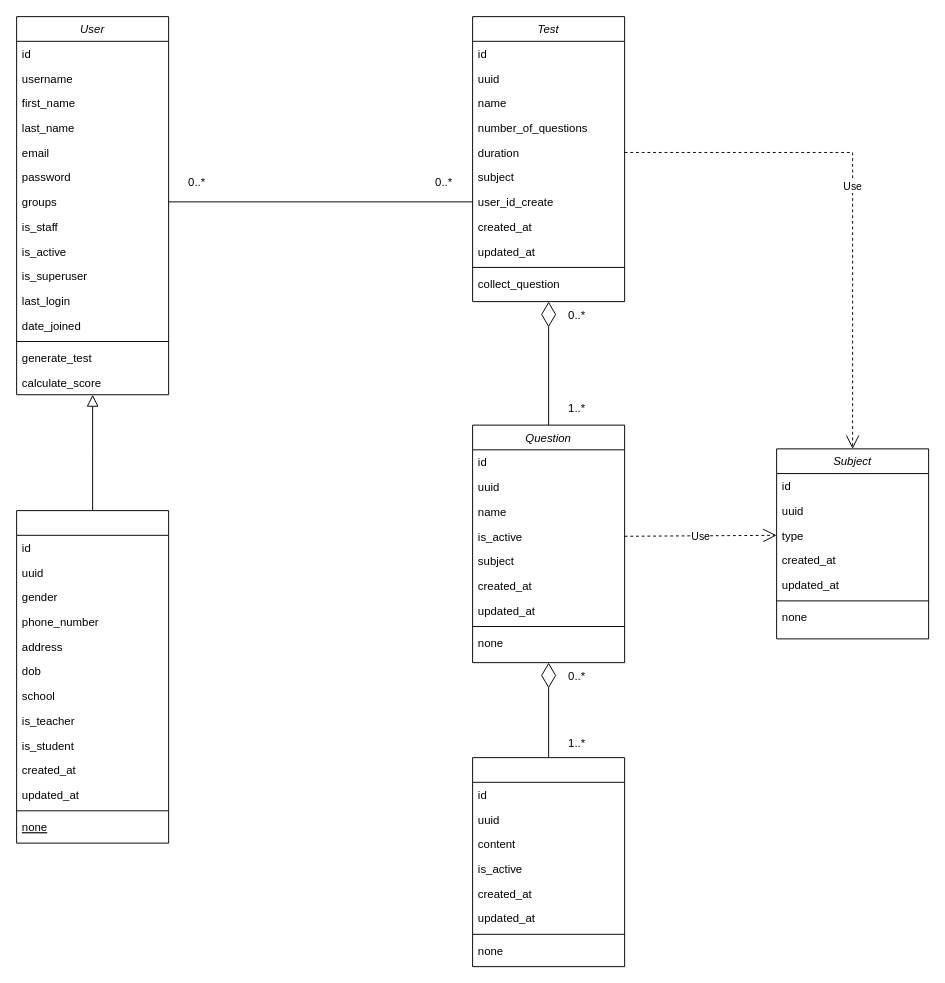
This 945x983 diagram has some shape labels left out. Here are the shapes that lost their labels. From the top down, the box of each, then its label:
(16, 510, 169, 843): User_Profile
(472, 757, 625, 967): Choice
